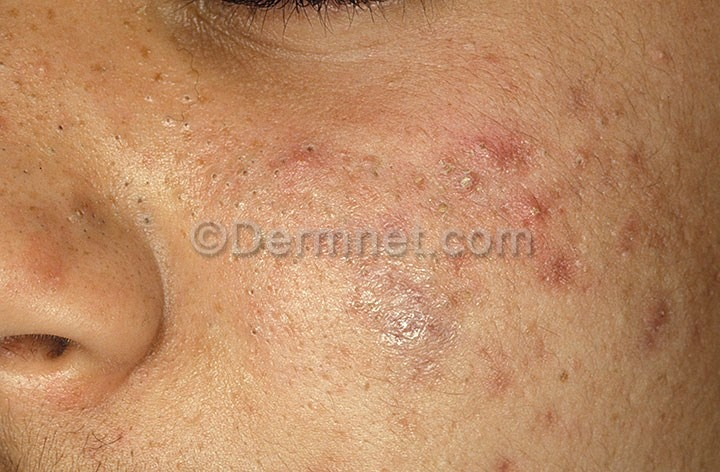Acne: (78, 82, 582, 343)
